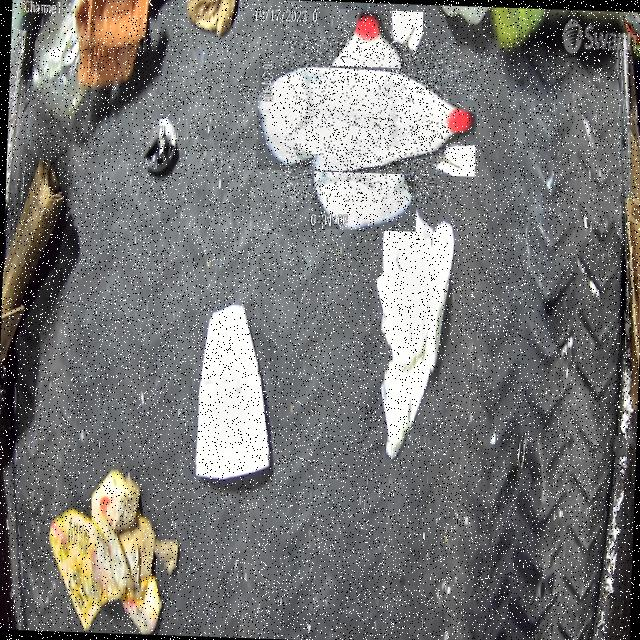milk-jug: (281, 34, 449, 204)
